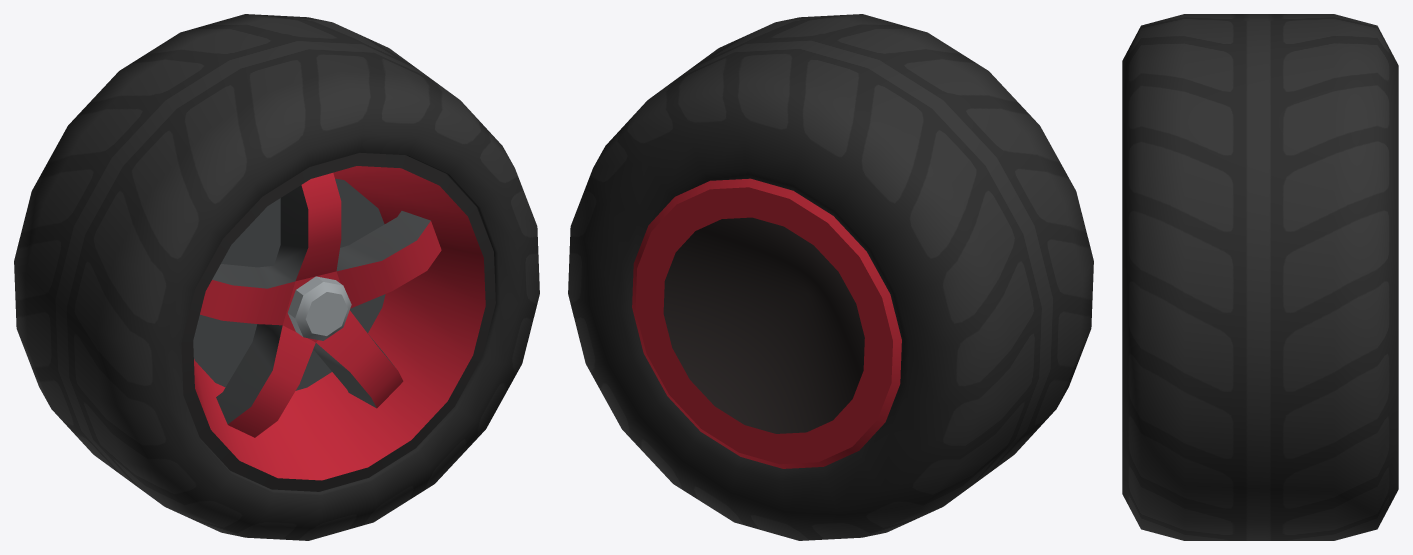
Rendered from Wheel_16.fbx.
3 views of the same model, side by side, from view 1: azimuth 30°, elevation 25°; view 2: azimuth 150°, elevation 25°; view 3: azimuth 270°, elevation 25° (orthographic). The views are drawn at different scales.
Parts seen in each view (by area): view 1: Wheel_16; view 2: Wheel_16; view 3: Wheel_16.
Part boxes in pixels (box(x1,y1,x2,y2)): Wheel_16: box(14, 14, 539, 540); Wheel_16: box(568, 14, 1093, 540); Wheel_16: box(1122, 14, 1398, 540).
Bounding box in the file's own units: 95 × 50 × 95.
